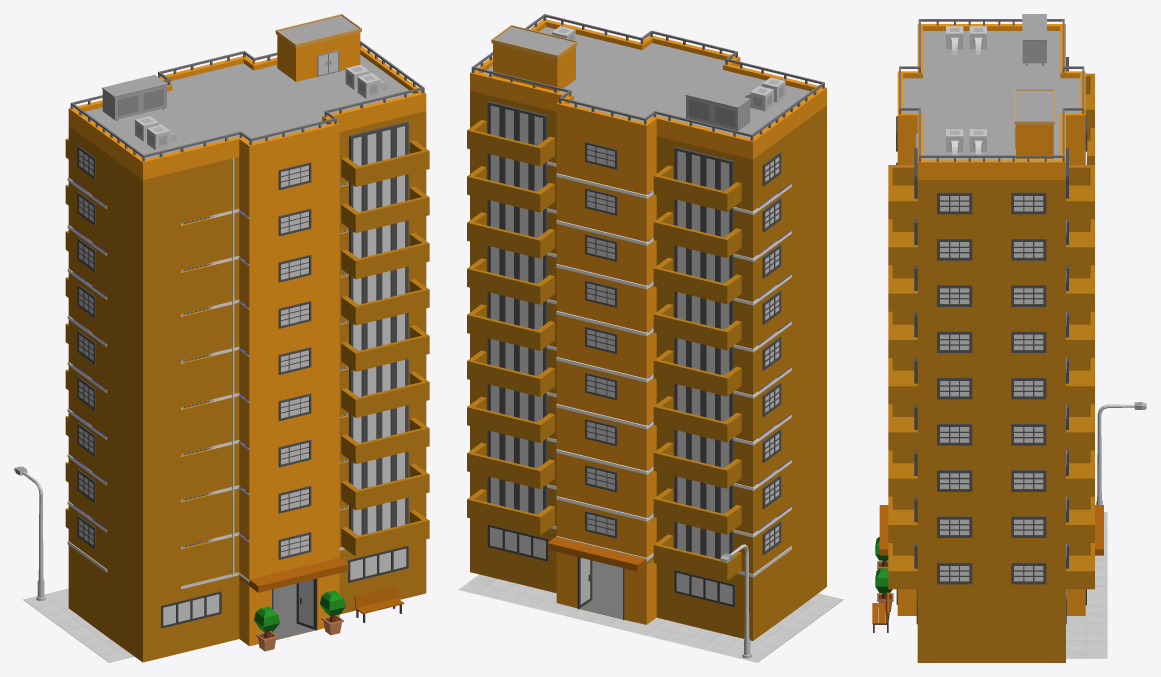
The model's file is FIXED_BUILDING-1.fbx.
3 renders of one model, left to right at view 1: azimuth 30°, elevation 25°; view 2: azimuth 150°, elevation 25°; view 3: azimuth 270°, elevation 25°, orthographic.
Visible parts, largest first — view 1: Floor.001, Cube.003, Base.005, Cube, Plane.131, Cube.028, Bench, Pole.026; view 2: Floor.001, Cube.003, Base.005, Plane.131, Cube, Pole.026; view 3: Floor.001, Cube.003, Base.005, Plane.131, Pole.026, Bench.
Part boxes in pixels (box(x1,y1,x2,y2)): Floor.001: box(65, 111, 429, 595); Cube.003: box(68, 14, 426, 179); Base.005: box(68, 539, 426, 662); Cube: box(67, 177, 348, 549); Plane.131: box(23, 588, 134, 662); Cube.028: box(232, 158, 234, 575); Bench: box(354, 586, 403, 622); Pole.026: box(14, 466, 45, 600); Floor.001: box(467, 90, 826, 580); Cube.003: box(470, 14, 826, 159); Base.005: box(470, 518, 826, 640); Plane.131: box(458, 574, 843, 662); Cube: box(547, 161, 791, 537); Pole.026: box(720, 544, 751, 658); Floor.001: box(888, 57, 1094, 596); Cube.003: box(897, 14, 1085, 179); Base.005: box(879, 505, 1103, 662); Plane.131: box(1066, 512, 1107, 658); Pole.026: box(1096, 402, 1146, 519); Bench: box(872, 592, 889, 632).
Bounding box in the file's own units: 1655 × 2728 × 1266.
